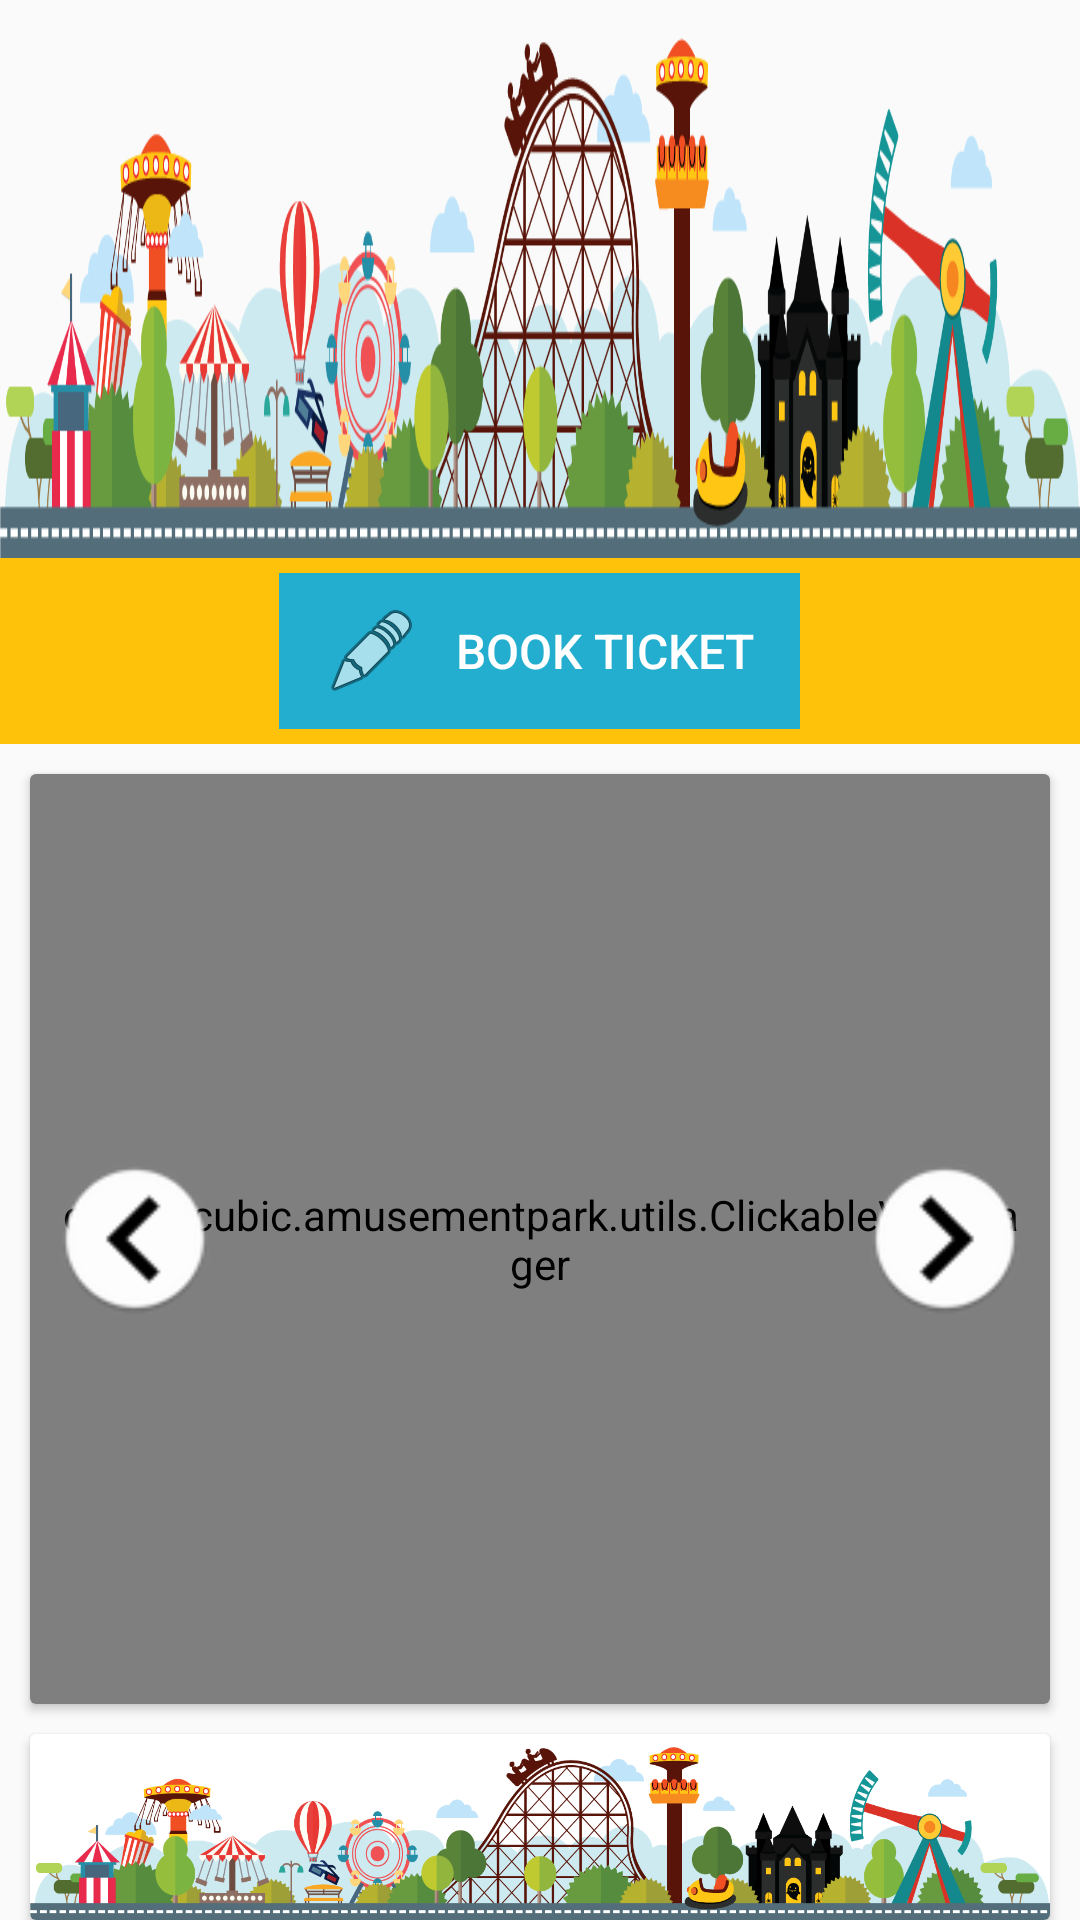

Screen size 1080px×1920px. Icon name, then its center in pixels as [x,y]:
next: [943,1238]
previous: [137,1238]
